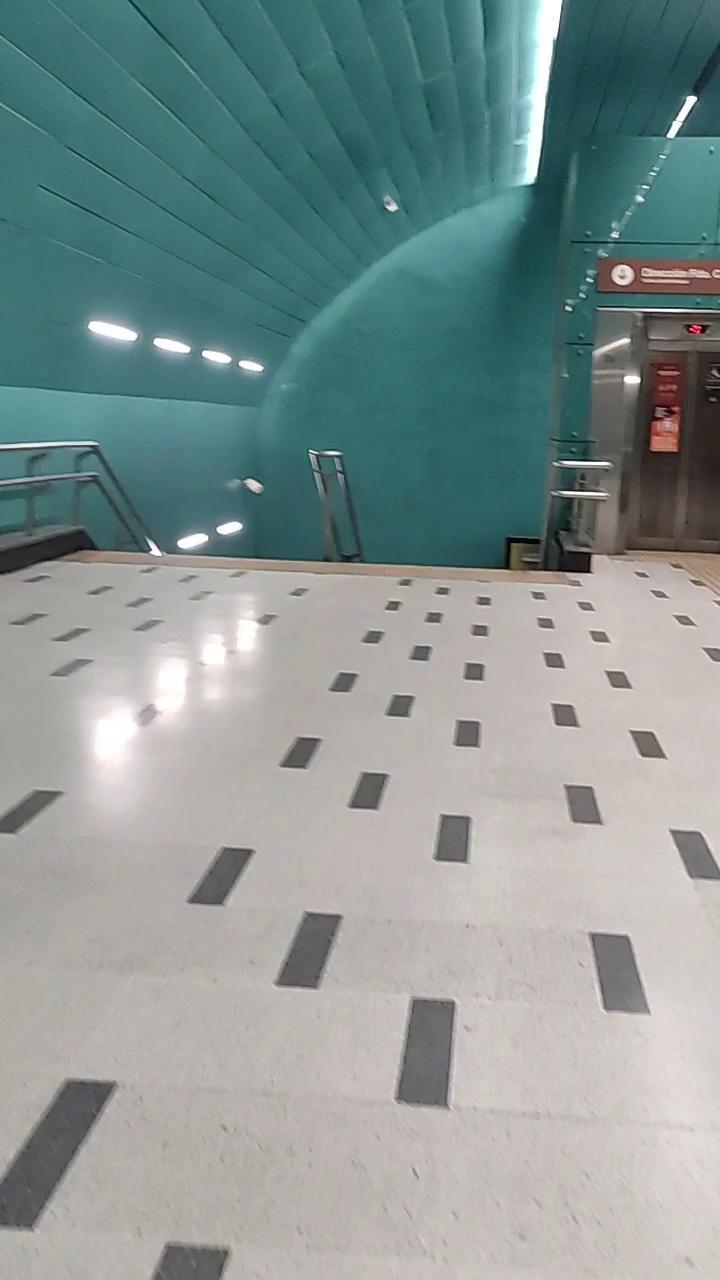down arrow: (611, 266, 640, 286)
handicapped symbol: (706, 364, 720, 385)
